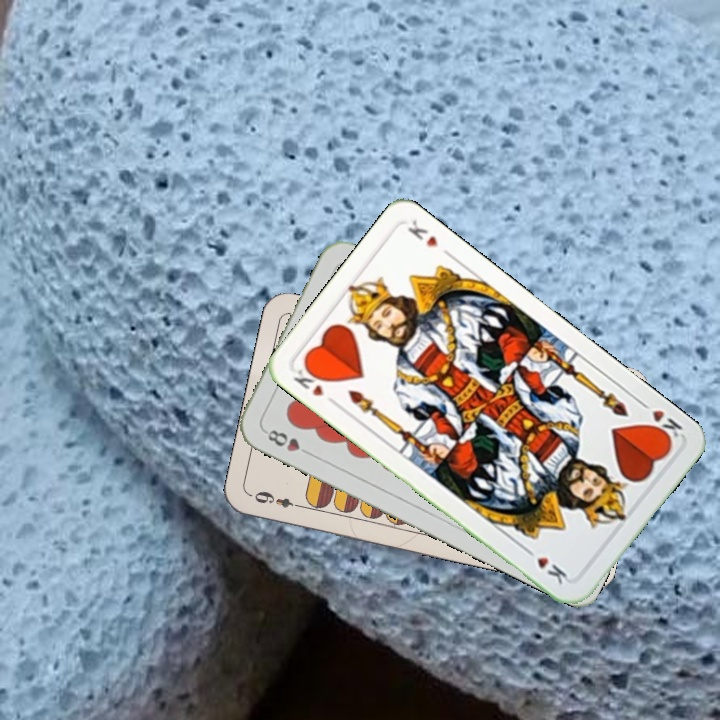E9: (247, 487, 306, 511)
H8: (260, 426, 315, 459)
HK: (289, 361, 341, 409), (643, 405, 685, 446)
